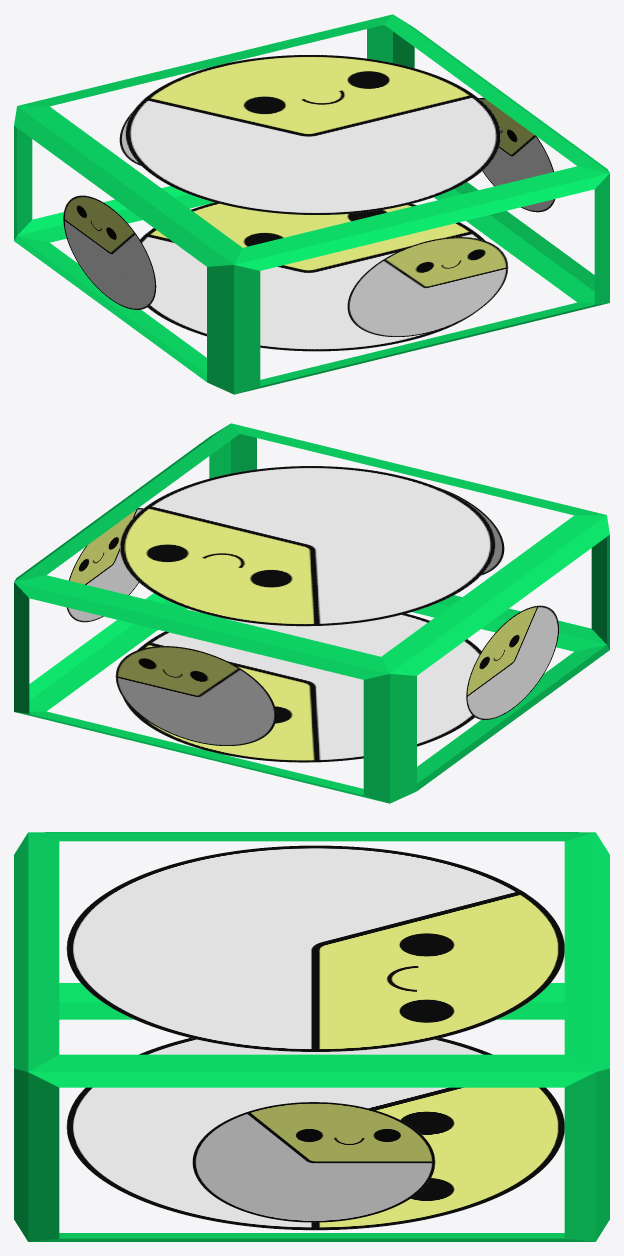
Rendered from Fracciones un tercio.fbx.
The picture shows the model from 3 angles, top to bottom: view 1: azimuth 30°, elevation 25°; view 2: azimuth 150°, elevation 25°; view 3: azimuth 270°, elevation 25°; orthographic projection. The views are drawn at different scales.
Visible parts, largest first — view 1: 1/3; view 2: 1/3; view 3: 1/3.
Boxes of the visible parts, bbox=[...] form: 1/3: bbox=[14, 14, 609, 394]; 1/3: bbox=[14, 423, 609, 803]; 1/3: bbox=[14, 832, 609, 1241].
Bounding box in the file's own units: 213 × 69.3 × 210.
2 materials, 1 textured.
